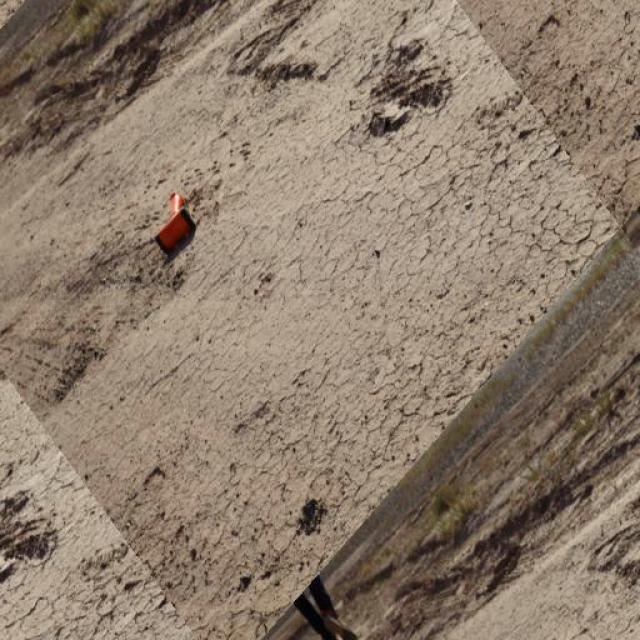mallet: (152, 190, 196, 255)
